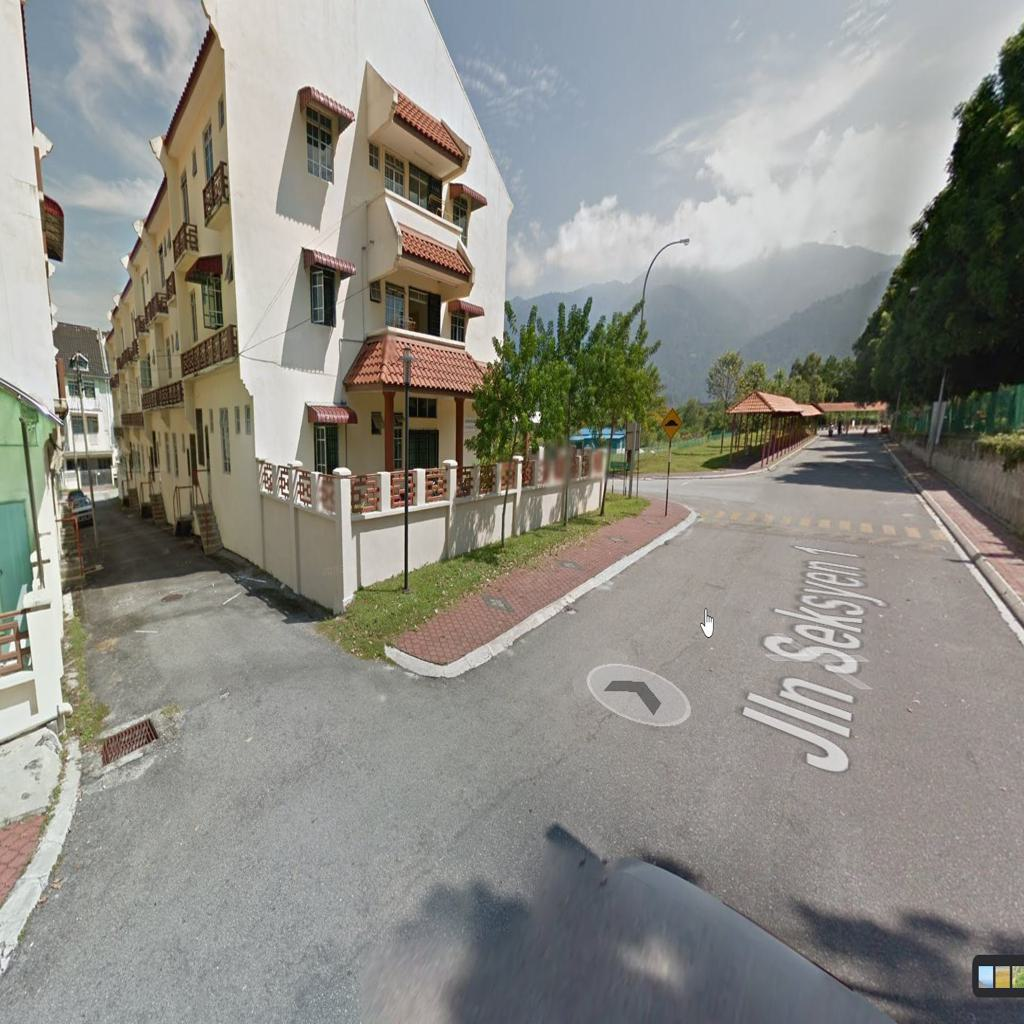Junction: (66, 585, 507, 878), (607, 440, 755, 519)
